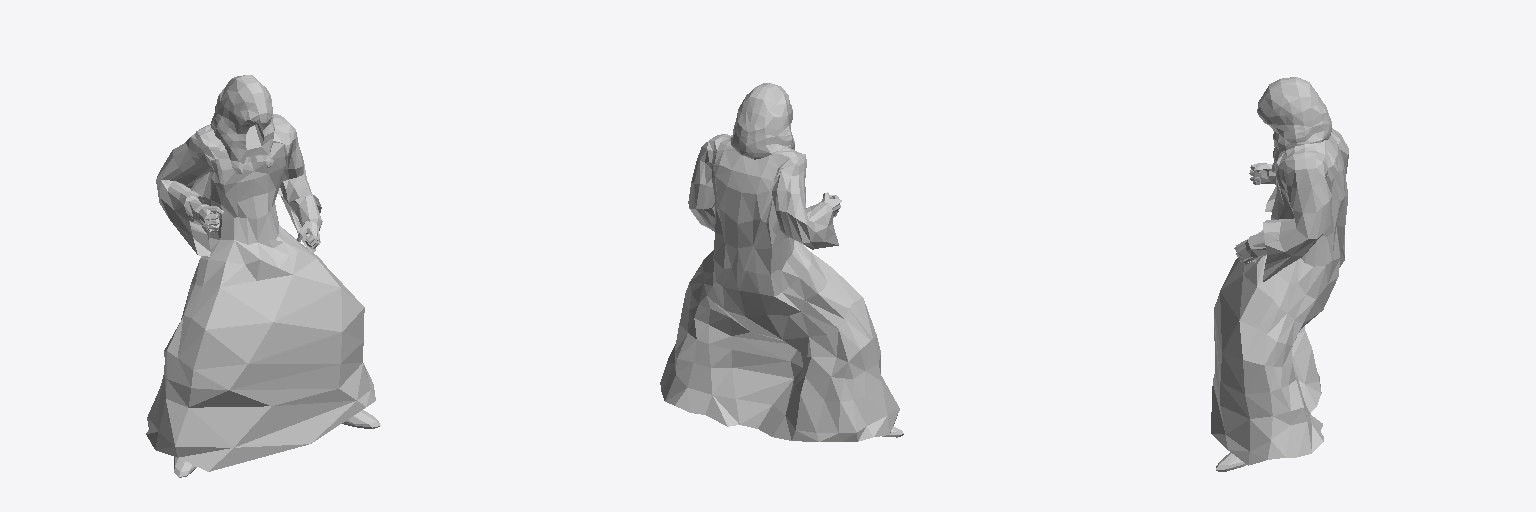
Rendered from Rider_Animate_Grab_Glide_38.obj.
The picture shows the model from 3 angles: view 1: azimuth 30°, elevation 25°; view 2: azimuth 150°, elevation 25°; view 3: azimuth 270°, elevation 25°; orthographic projection.
Parts seen in each view (by area): view 1: dm_nazgulrobe_ride_241108; view 2: dm_nazgulrobe_ride_241108; view 3: dm_nazgulrobe_ride_241108.
Boxes of the visible parts, <box> form: dm_nazgulrobe_ride_241108: <box>146,75,380,477</box>; dm_nazgulrobe_ride_241108: <box>660,83,903,441</box>; dm_nazgulrobe_ride_241108: <box>1211,77,1348,471</box>.
Bounding box in the file's own units: 0.4393 × 0.664 × 0.2373.